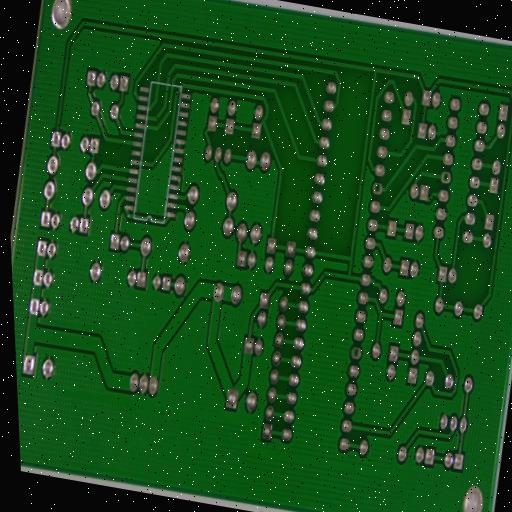missing_hole: (370, 179, 385, 198), (348, 343, 362, 363), (439, 168, 452, 186)
